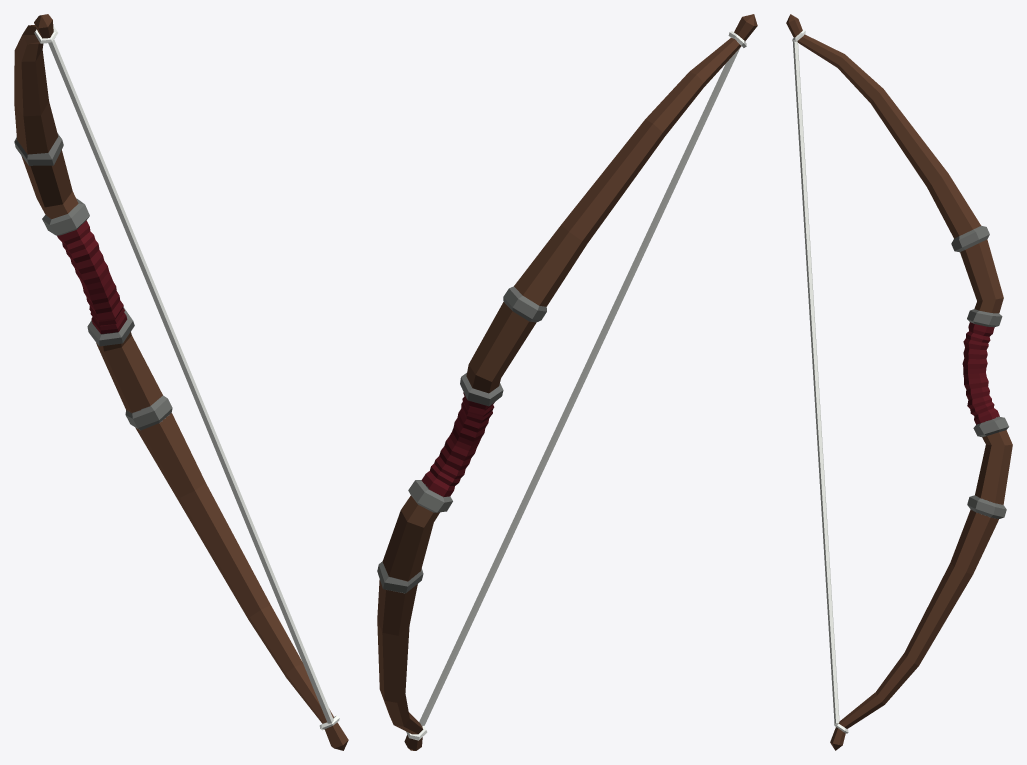
Rendered from Bow.fbx.
3 renders of one model, left to right at view 1: azimuth 30°, elevation 25°; view 2: azimuth 150°, elevation 25°; view 3: azimuth 270°, elevation 25°, orthographic. The views are drawn at different scales.
Visible parts, largest first — view 1: Bow; view 2: Bow; view 3: Bow.
Part boxes in pixels (bbox=[...]): Bow: bbox=[14, 14, 348, 750]; Bow: bbox=[377, 14, 757, 750]; Bow: bbox=[786, 14, 1012, 750].
Bounding box in the file's own units: 57.86 × 136 × 45.28.
1 material, 1 textured.
